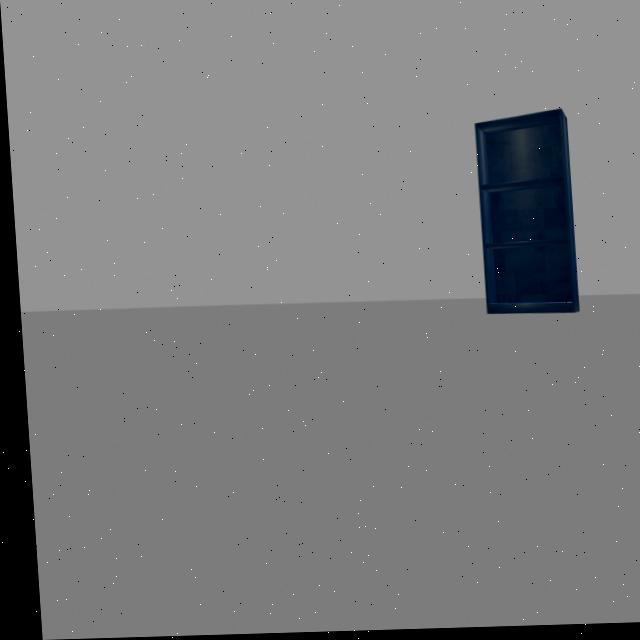shelf: (462, 99, 585, 338)
